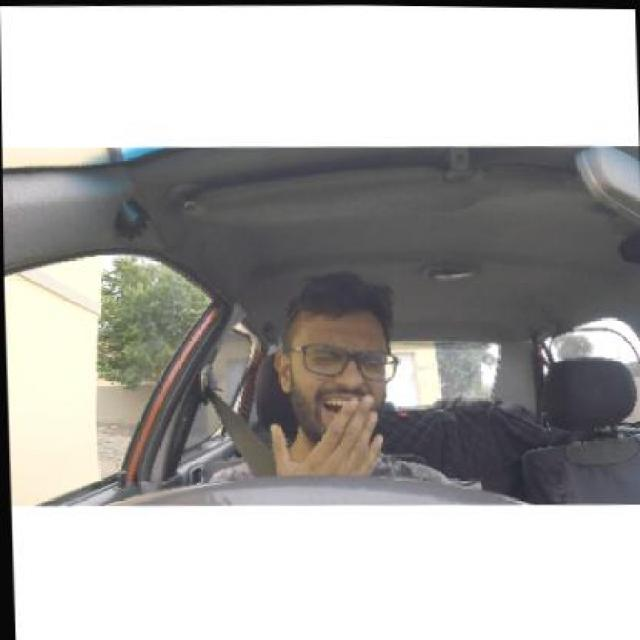drowsy: (256, 284, 398, 475)
